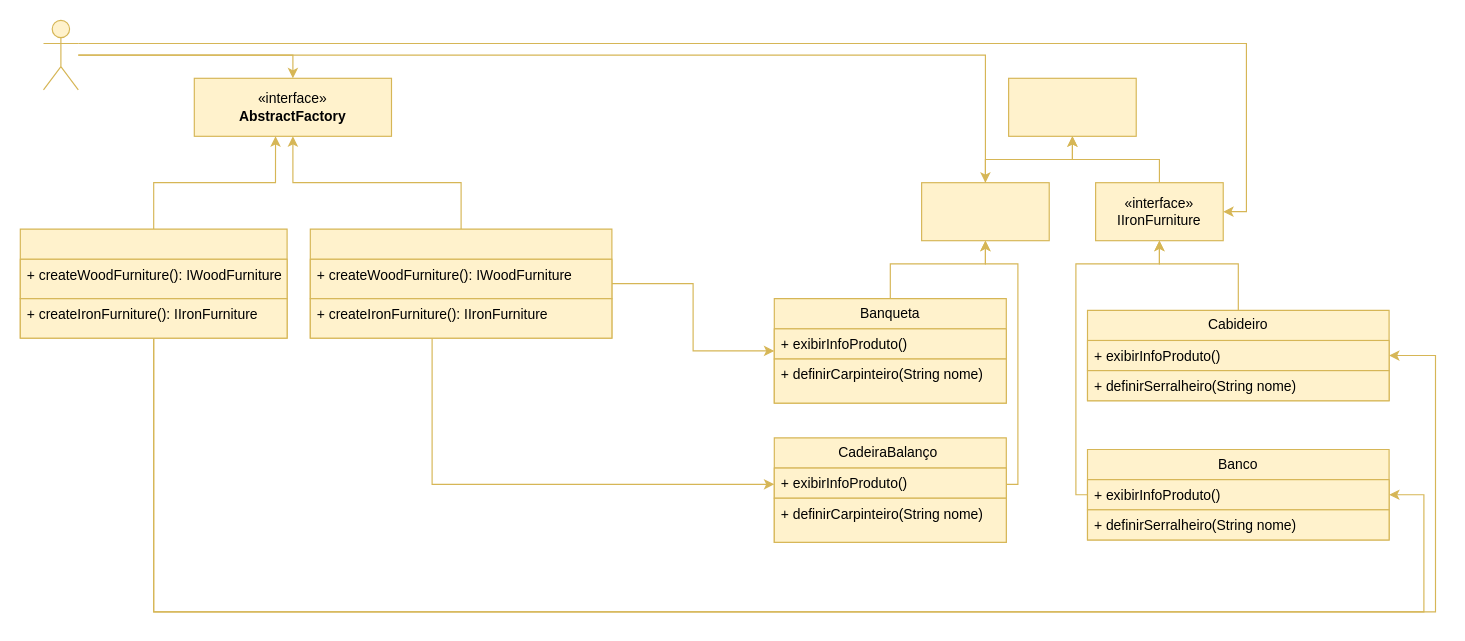
This 1465x641 diagram has some shape labels left out. Each missing label, with the box of its shape:
FabricImpactoImoveis: (309, 228, 612, 338)
FabricMetalFlex: (19, 228, 287, 338)
User: (42, 19, 78, 90)
«interface» Furniture: (1007, 77, 1136, 136)
«interface» IWoodFurniture: (920, 182, 1049, 241)
